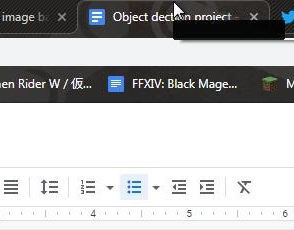cursor: (172, 2, 185, 20)
